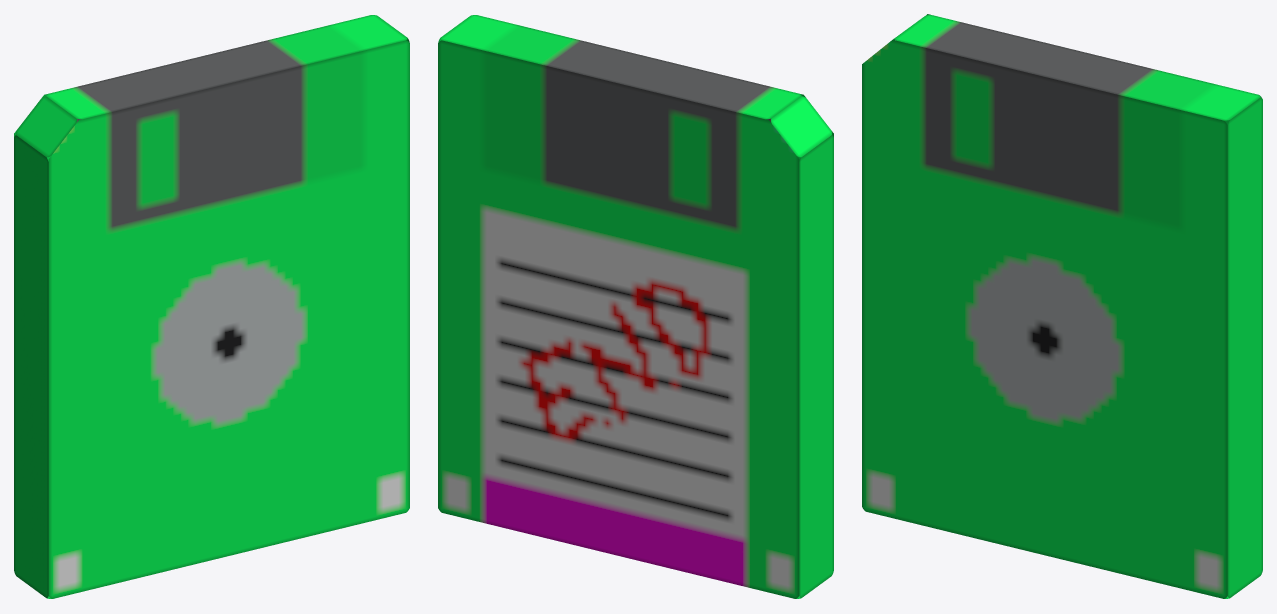
Rendered from meta.fbx.
The picture shows the model from 3 angles, left to right: view 1: azimuth 30°, elevation 25°; view 2: azimuth 150°, elevation 25°; view 3: azimuth 330°, elevation 25°; orthographic projection.
Parts seen in each view (by area): view 1: mesh; view 2: mesh; view 3: mesh.
Part boxes in pixels (x1,y1,x2,y2): mesh: (14,15,409,598); mesh: (438,15,833,598); mesh: (862,14,1262,598).
Bounding box in the file's own units: 37.5 × 46.88 × 6.25.
1 material, 1 textured.
